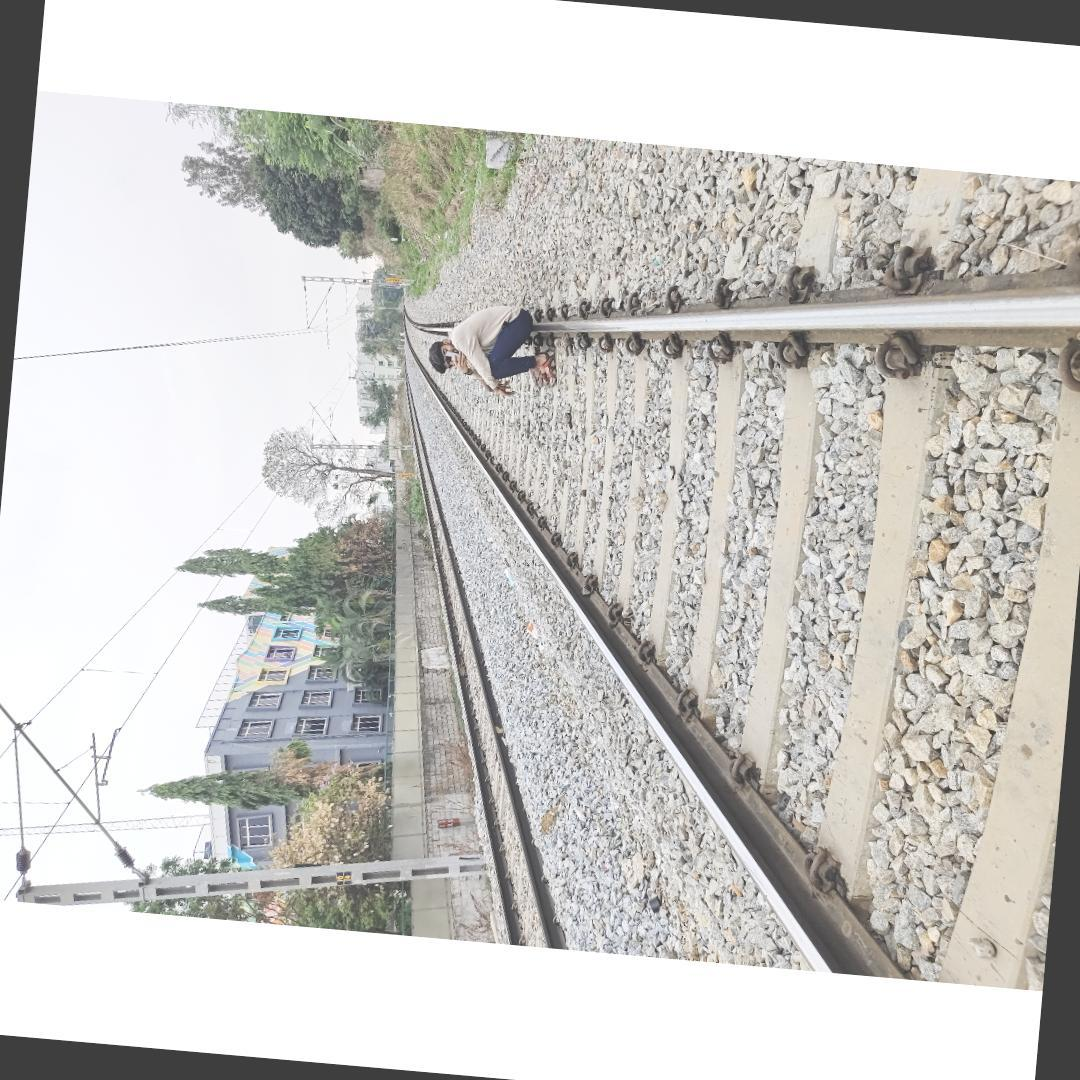sitting: (424, 296, 563, 402)
track: (395, 189, 1080, 991)
